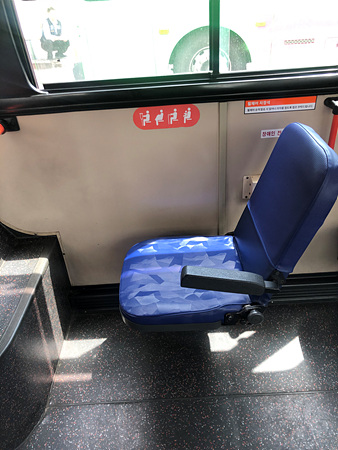seat: (118, 126, 337, 329)
